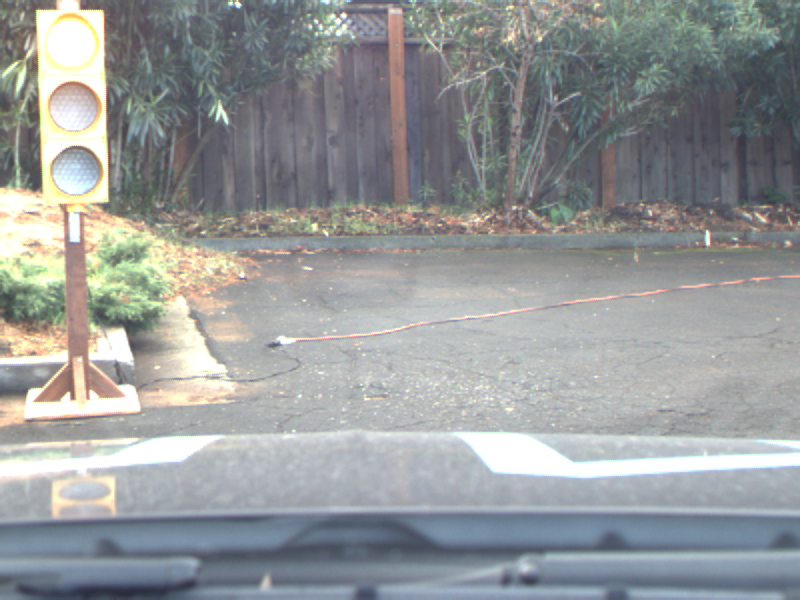Red: (36, 10, 105, 201)
